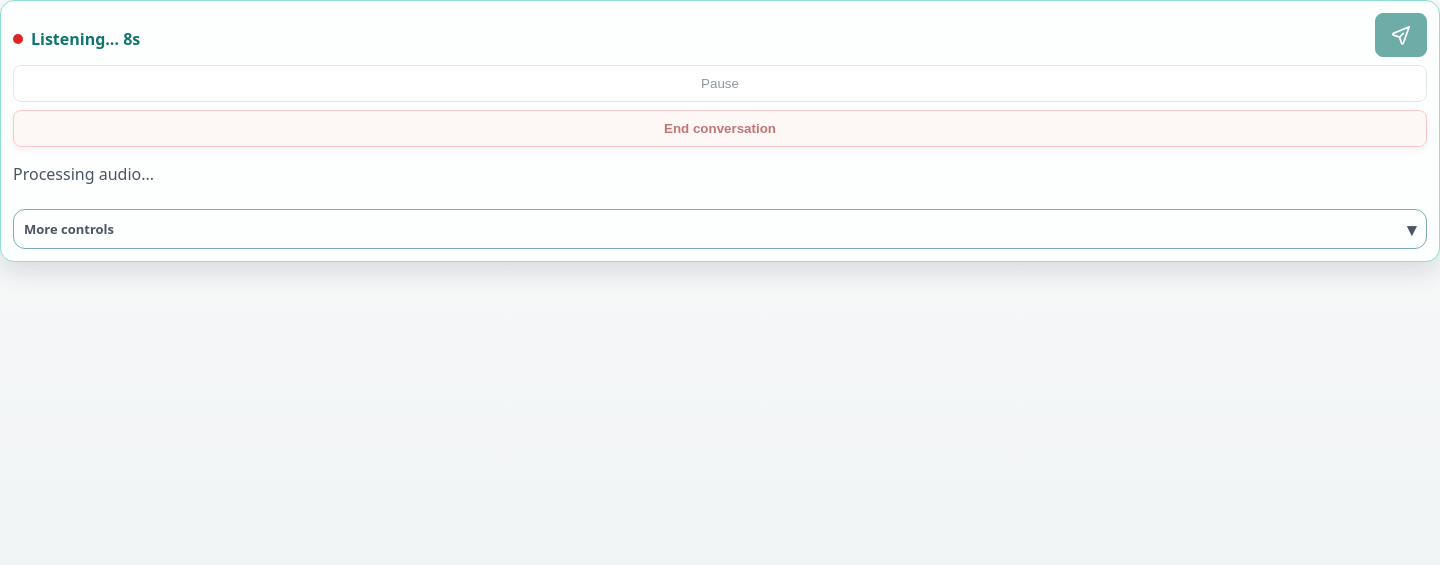
Scenario: locks secondary settings while conversationLoading
What coordinates should you click on to do the following:
click the text "More controls"
I would click on:
 (69, 229)
Its box is [24,220,114,238].
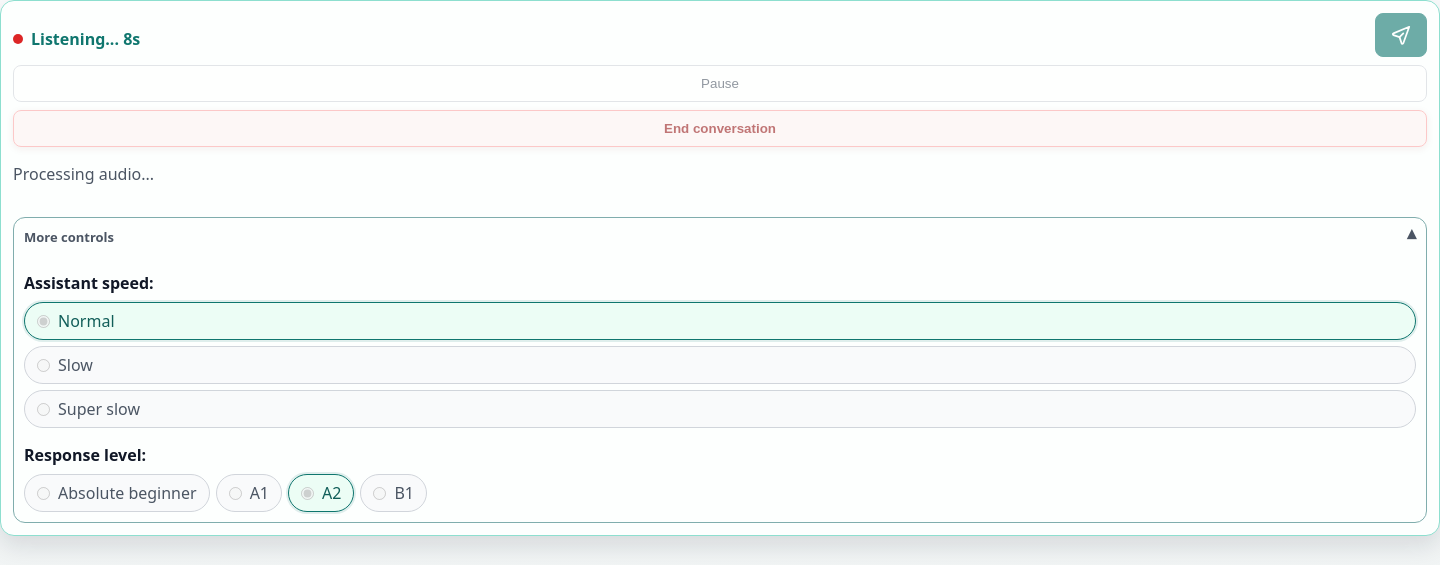
Expected: the radio button labelled "Normal" is disabled, [37,314,50,328]
Expected: the radio button labelled "Slow" is disabled, [37,358,50,372]
Expected: the radio button labelled "Super slow" is disabled, [37,402,50,416]
